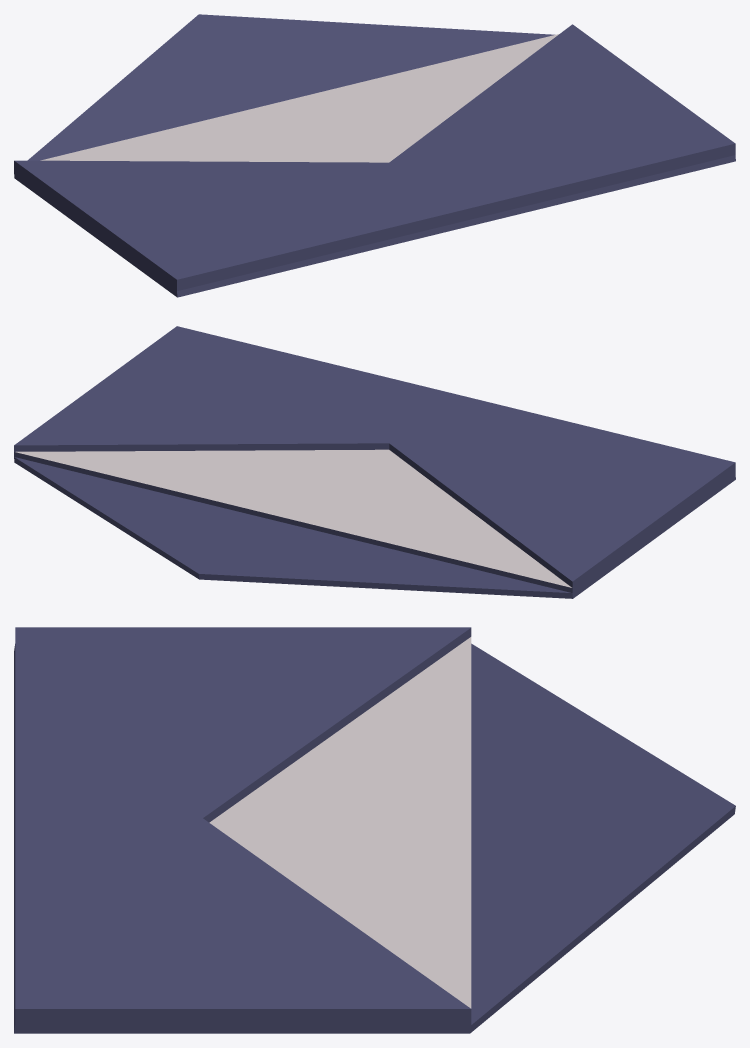
The model's file is letter.fbx.
The picture shows the model from 3 angles, top to bottom: view 1: azimuth 30°, elevation 25°; view 2: azimuth 150°, elevation 25°; view 3: azimuth 270°, elevation 25°; orthographic projection. The views are drawn at different scales.
Visible parts, largest first — view 1: Letter; view 2: Letter; view 3: Letter.
Part boxes in pixels (<box>): Letter: <box>14,14,735,297</box>; Letter: <box>14,326,735,598</box>; Letter: <box>14,627,735,1033</box>.
Size of the model in its own units: 28.31 by 1.28 by 22.65.
